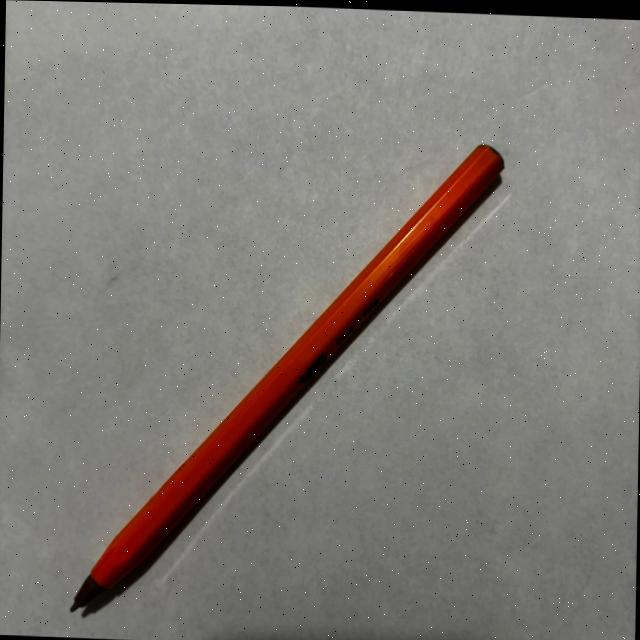pencil: (69, 142, 505, 618)
